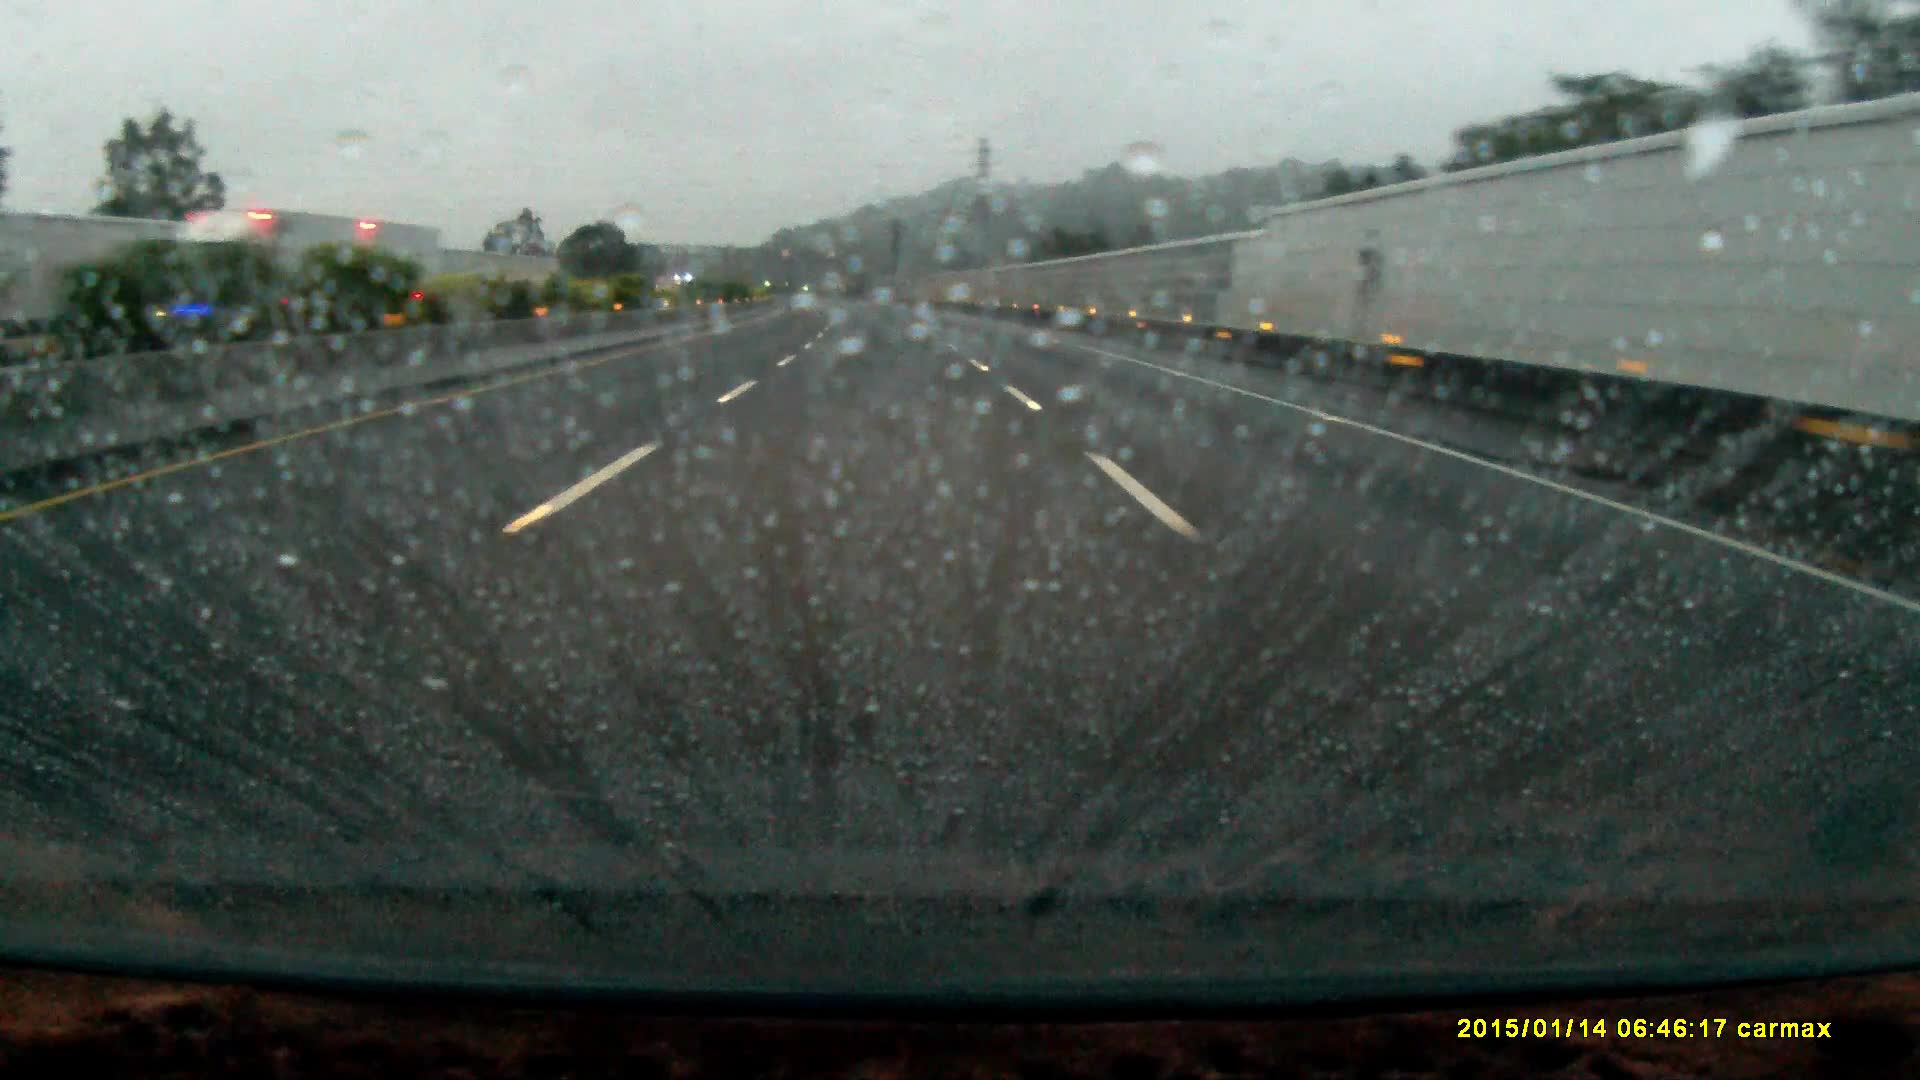vehicle: (160, 215, 448, 332)
